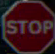Stop: (1, 5, 53, 42)
